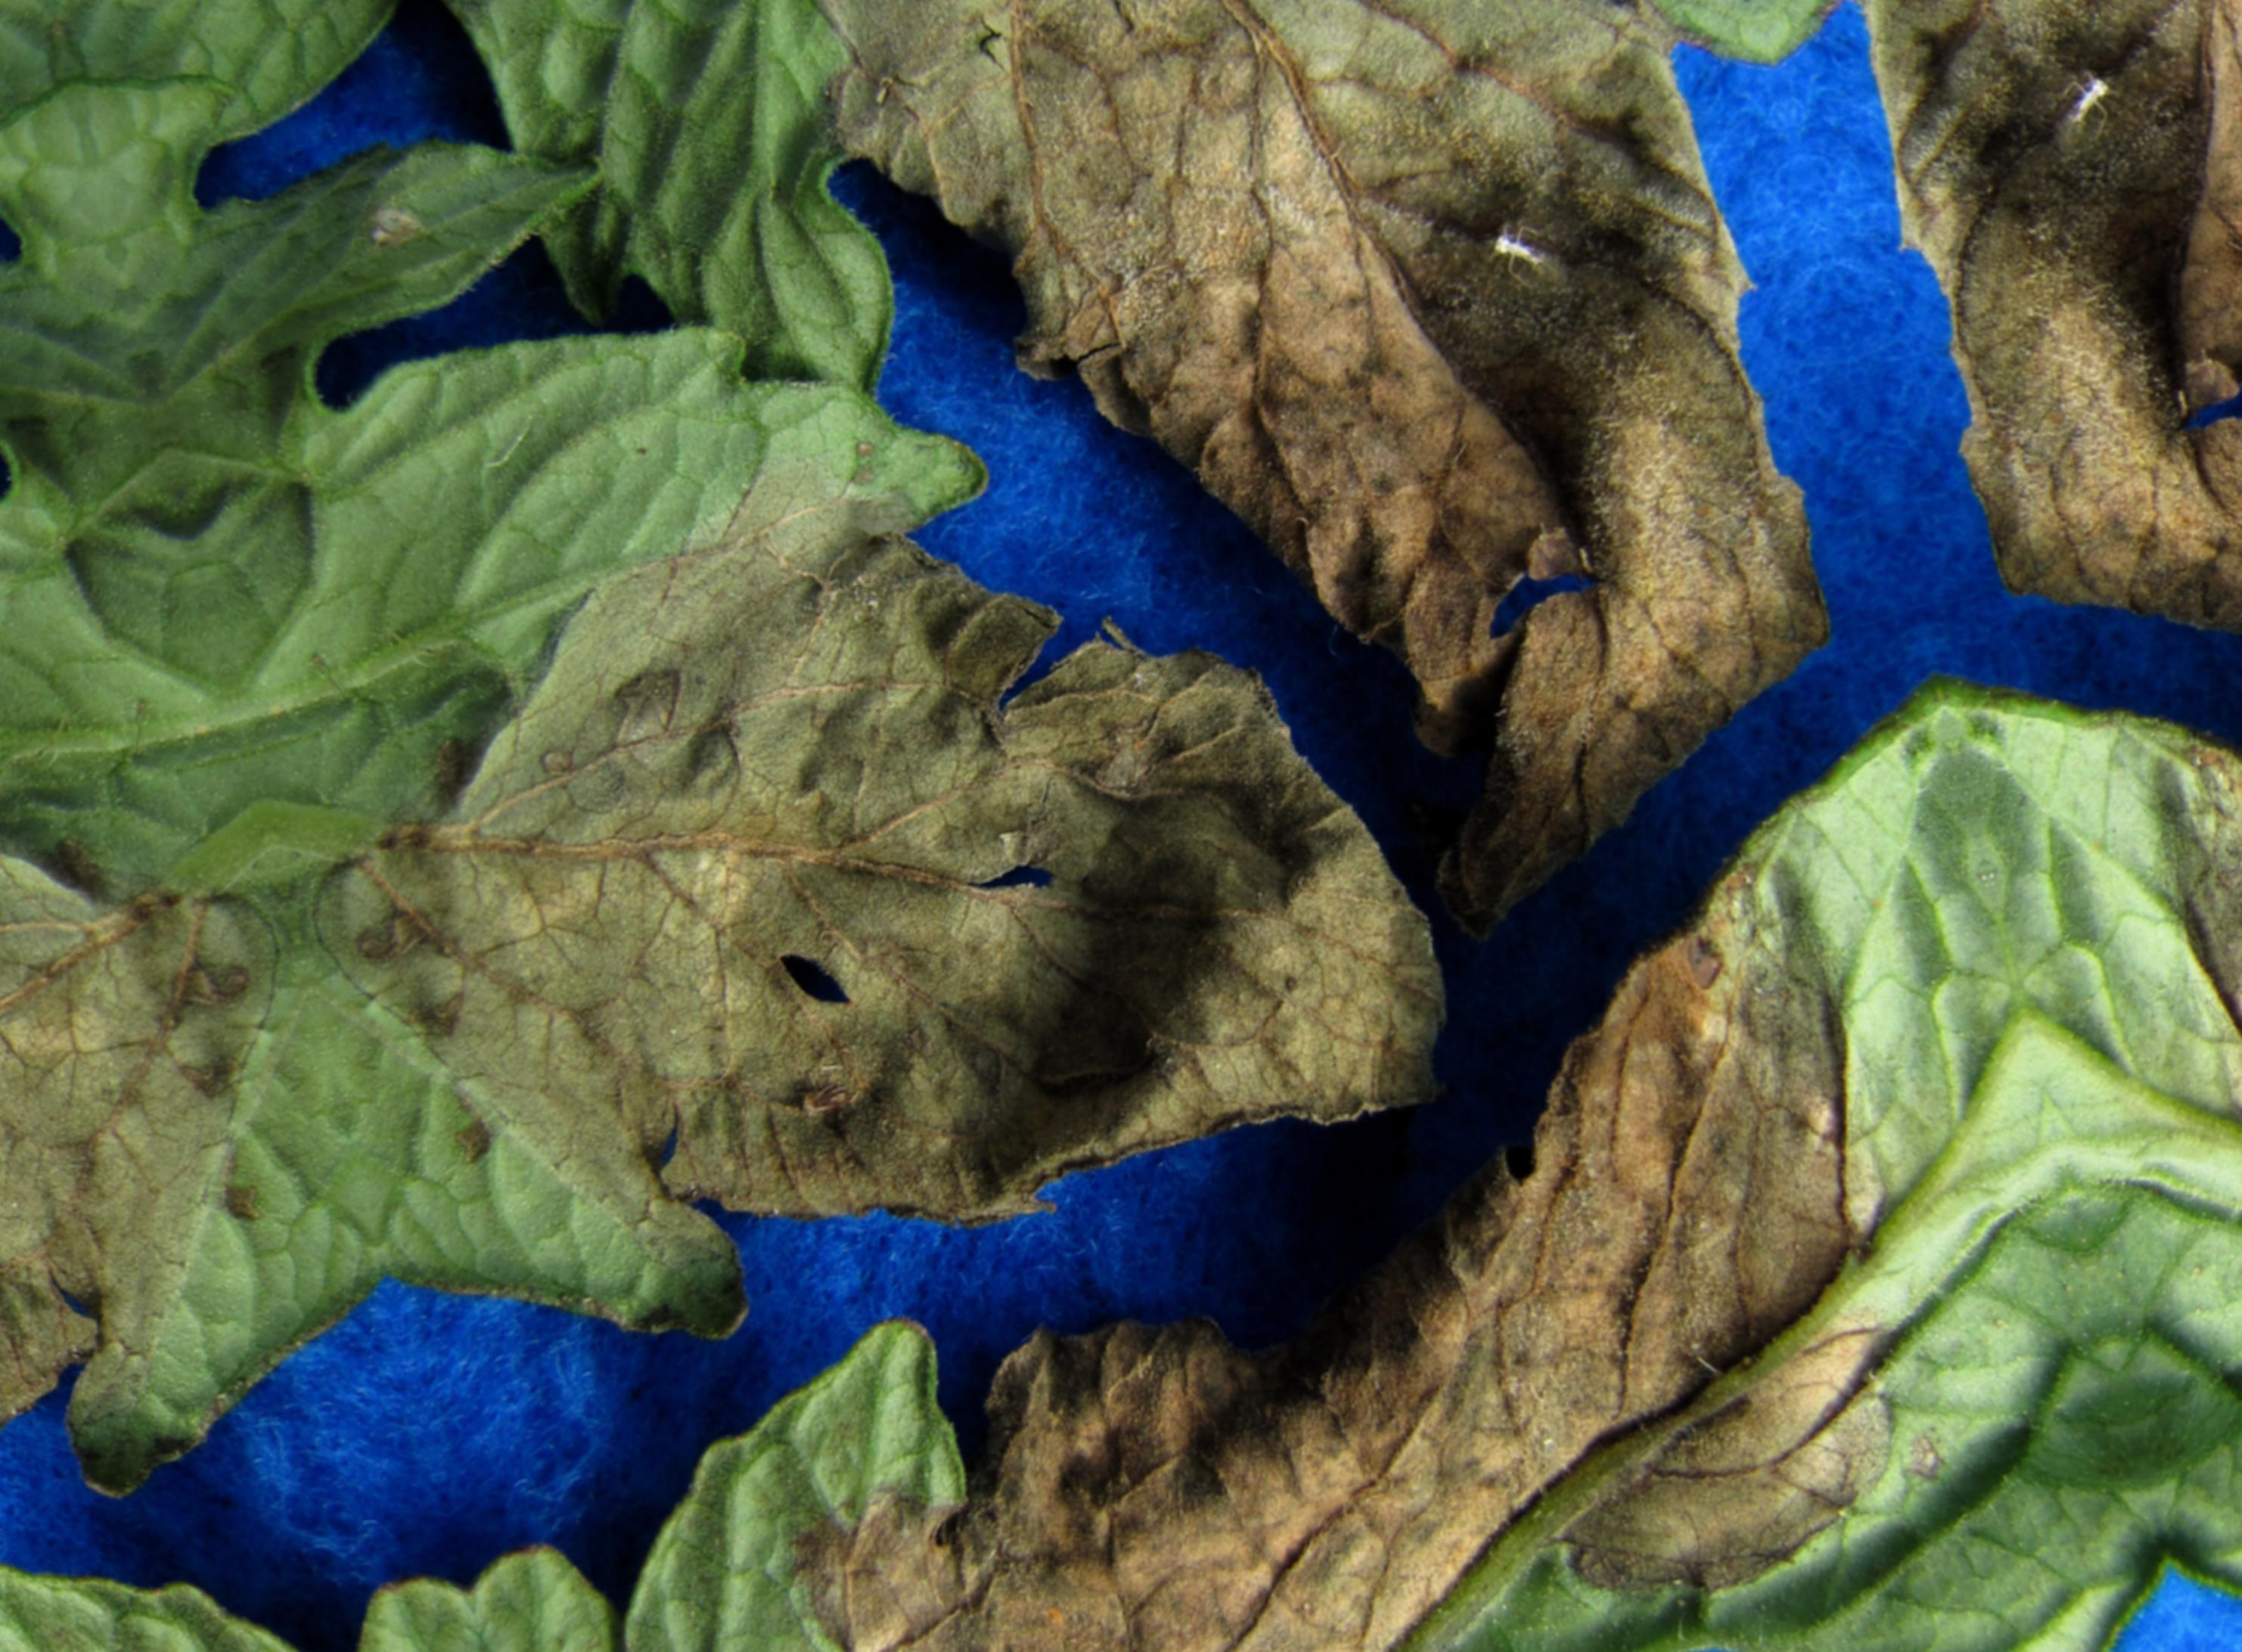Tomato leaf late blight: (111, 0, 1511, 1472), (409, 0, 1947, 1060)
